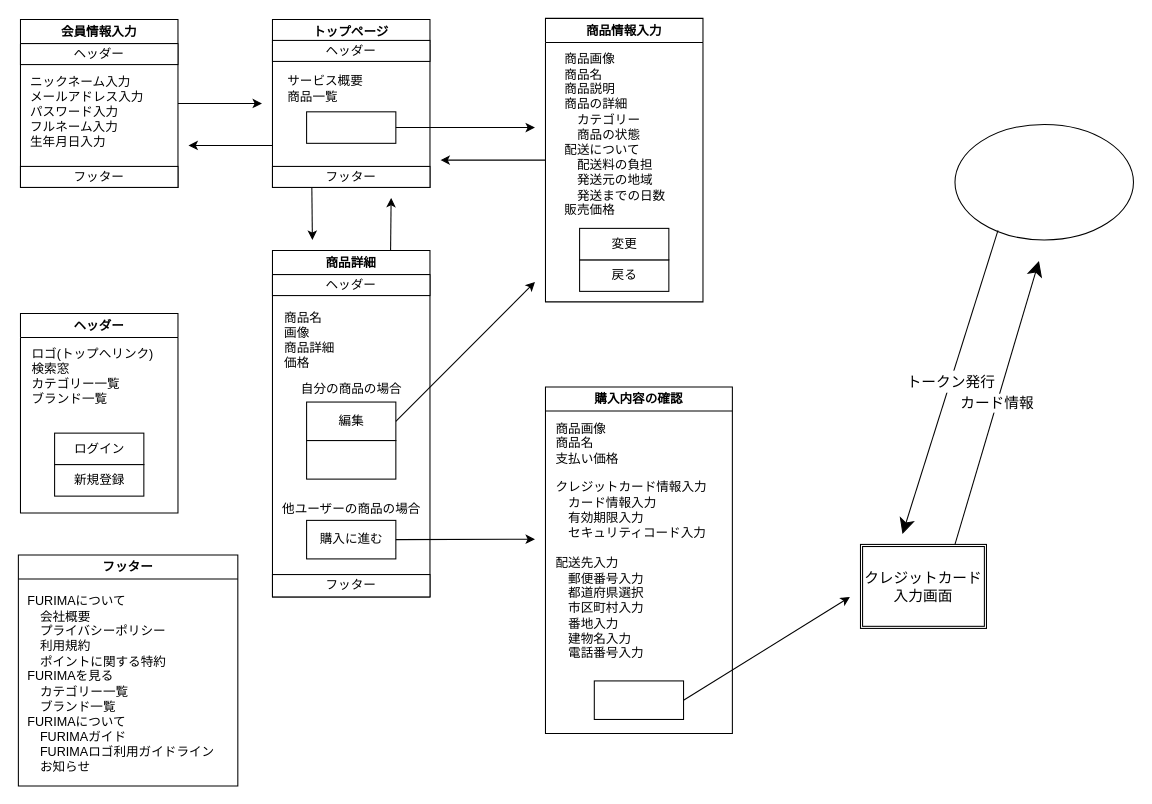
Some shapes in this 1152 by 804 pixel diagram are drawn without their labels. The shapes that lost their labels are listed below. From the top down, each one's centre as x and y in pixels, then its label:
At pixel 351 127: "出品".
At pixel 1043 181: "PAY.JP".
At pixel 351 459: "削除".
At pixel 638 699: "購入".
